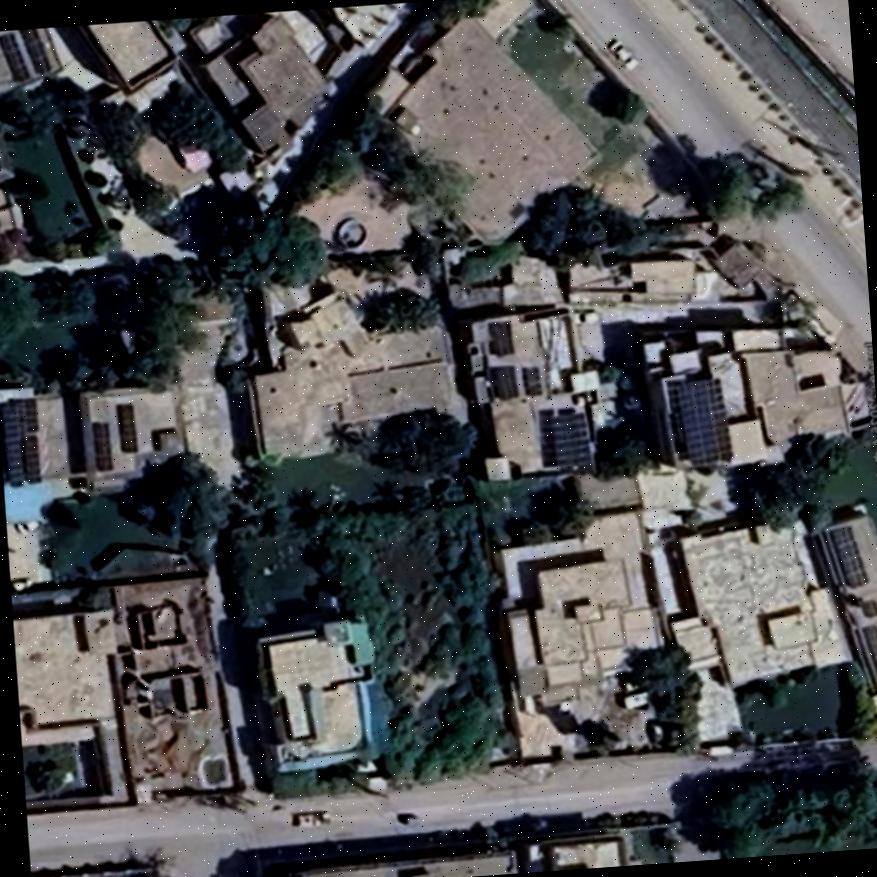Solarpanel: (674, 379, 731, 466), (0, 394, 42, 489), (828, 523, 870, 587), (550, 409, 590, 473), (18, 27, 51, 70), (0, 31, 27, 80), (90, 422, 110, 471), (118, 403, 134, 453), (863, 625, 877, 673)
